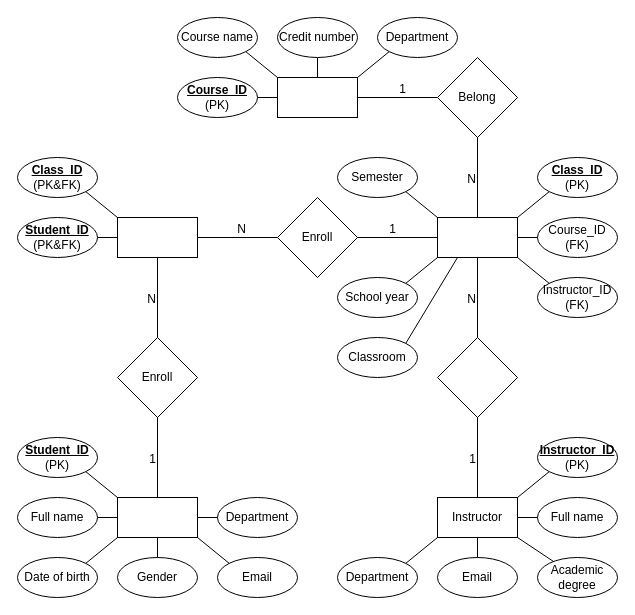
The diagram is 635 pixels wide and 615 high, and some of its shapes have lost their labels. Here are the shapes that lost their labels. From the top down, the box of each, then its label:
(276, 76, 358, 118): Course
(116, 216, 198, 258): Enrollment
(436, 216, 518, 258): Class_Section
(436, 336, 518, 418): Teach
(116, 496, 198, 538): Student
